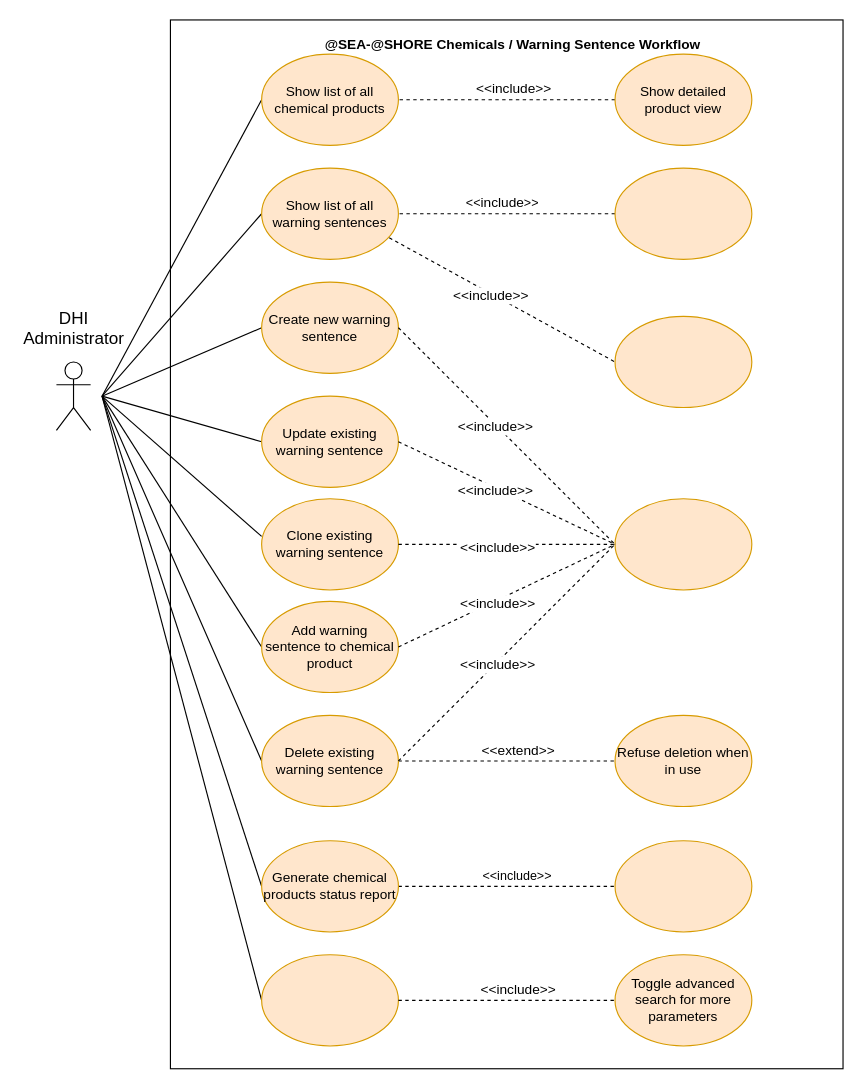
The diagram is 863 pixels wide and 1089 high, and some of its shapes have lost their labels. The centre of each missing label's shape, as x and y in pixels:
Export report as excel file: the point at 683,886
Search for chemical products: the point at 329,1000
Show detailed warning sentence view: the point at 683,213
Sort warning sentences in a custom order: the point at 683,361
Sync Warning Sentence with SEA: the point at 683,544
